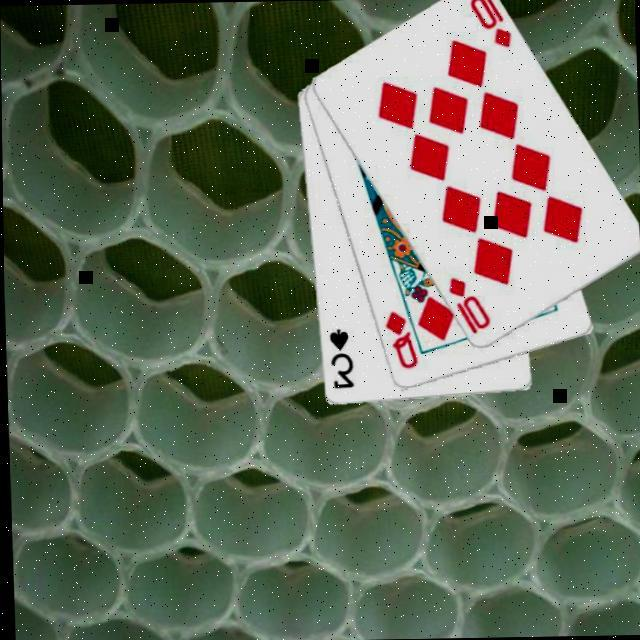10D: (442, 276, 492, 339), (465, 0, 514, 53)
3S: (323, 328, 353, 394)
QD: (378, 309, 418, 374)
